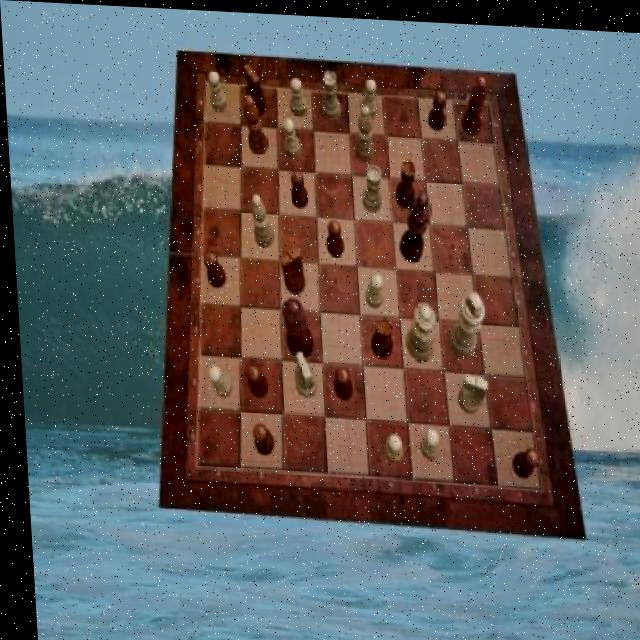bishop: (458, 71, 488, 132), (242, 93, 267, 154)
black-bishop: (395, 187, 432, 260)
black-king: (277, 245, 303, 292), (244, 62, 266, 115)
black-knight: (507, 441, 536, 473), (200, 249, 225, 286), (426, 85, 448, 126), (242, 363, 264, 398), (287, 167, 307, 205), (247, 422, 269, 455), (323, 216, 342, 254), (330, 363, 349, 398)
black-pawn: (278, 295, 311, 356)
black-queen: (393, 156, 418, 206), (366, 313, 391, 355)
black-rook: (248, 191, 272, 246), (352, 100, 374, 159)
white-bishop: (443, 287, 484, 355)
white-king: (453, 369, 486, 410), (290, 348, 315, 394)
white-knight: (204, 364, 230, 398), (209, 69, 228, 111), (360, 75, 379, 117), (282, 116, 301, 156), (289, 75, 308, 114), (414, 424, 435, 457), (363, 270, 382, 305), (378, 432, 398, 460)
white-pawn: (401, 299, 436, 360)
white-queen: (319, 66, 341, 118), (359, 161, 382, 209)
